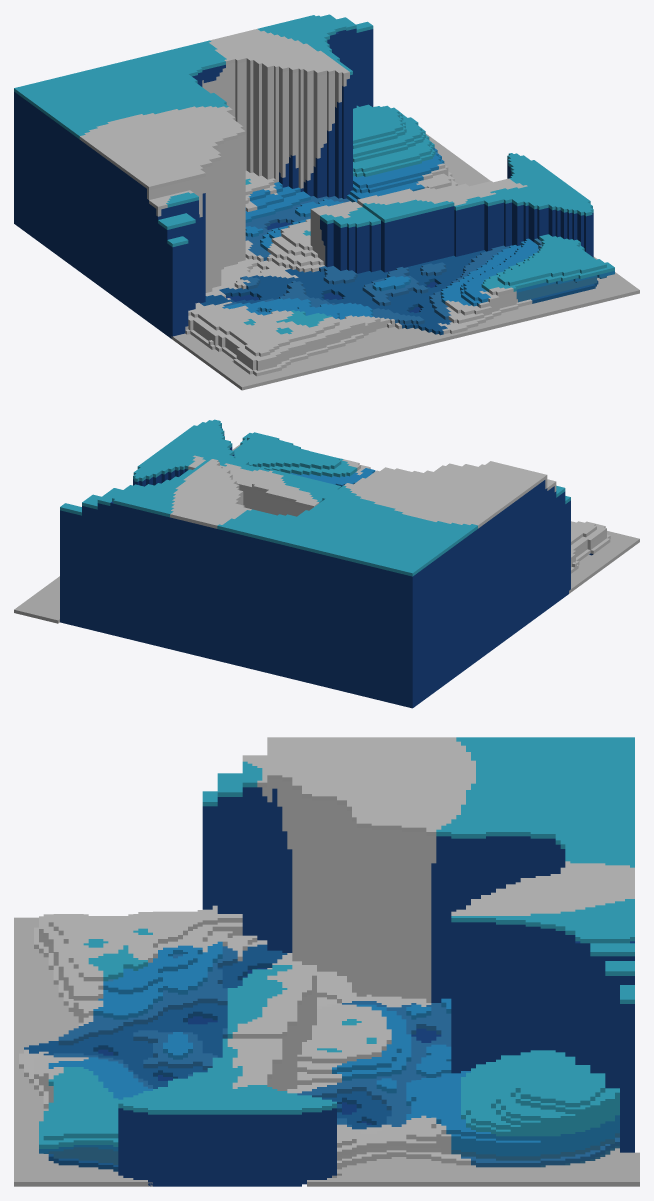
The model's file is level design final.fbx.
3 views of the same model, one above another, from view 1: azimuth 30°, elevation 25°; view 2: azimuth 150°, elevation 25°; view 3: azimuth 270°, elevation 25° (orthographic). The views are drawn at different scales.
Parts seen in each view (by area): view 1: Mesh, water:Mesh; view 2: Mesh, water:Mesh; view 3: Mesh, water:Mesh.
Part boxes in pixels (box(x1,y1,x2,y2)): Mesh: box(14, 14, 614, 376); water:Mesh: box(171, 133, 639, 390); Mesh: box(60, 419, 610, 708); water:Mesh: box(14, 444, 639, 623); Mesh: box(19, 737, 634, 1186); water:Mesh: box(14, 917, 639, 1186).
Size of the model in its own units: 126 by 41 by 126.
